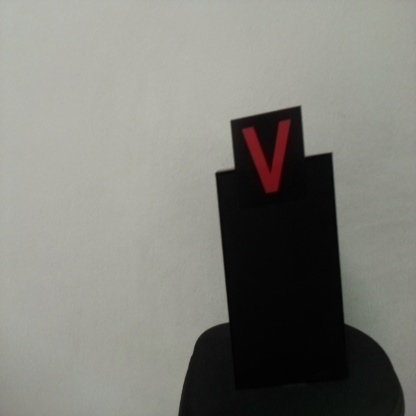id_11: (230, 119, 305, 201)
